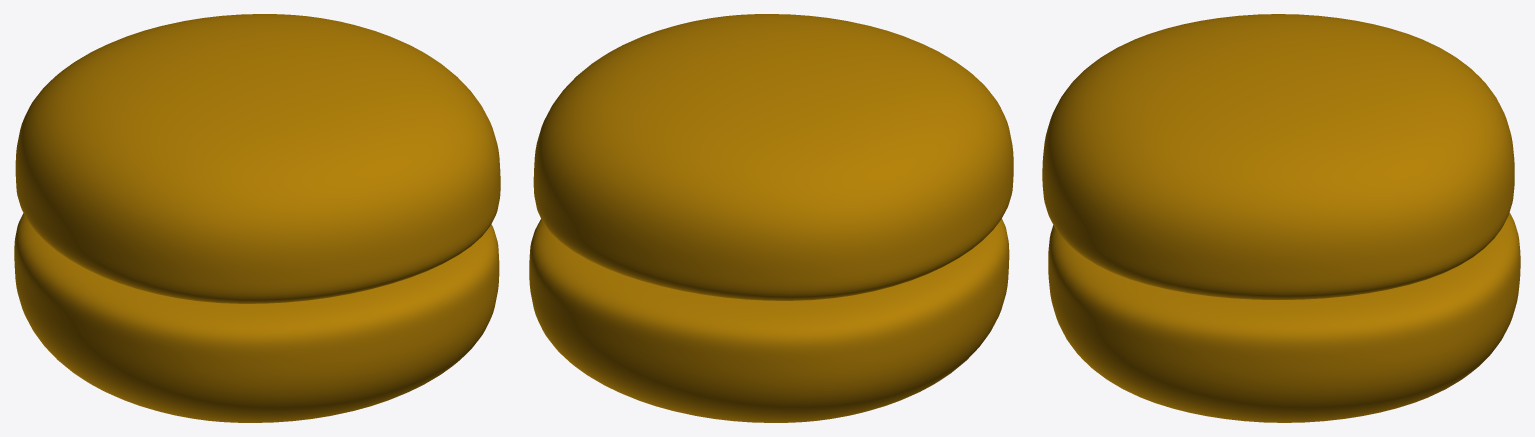
The model's file is testing.glb.
The picture shows the model from 3 angles, left to right: view 1: azimuth 30°, elevation 25°; view 2: azimuth 150°, elevation 25°; view 3: azimuth 270°, elevation 25°; orthographic projection.
Visible parts, largest first — view 1: Cube; view 2: Cube; view 3: Cube.
Part boxes in pixels (x1=…): Cube: x1=14, y1=14, x2=500, y2=422; Cube: x1=529, y1=14, x2=1013, y2=422; Cube: x1=1042, y1=14, x2=1520, y2=422.
Size of the model in its own units: 4.61 by 3.25 by 4.65.
